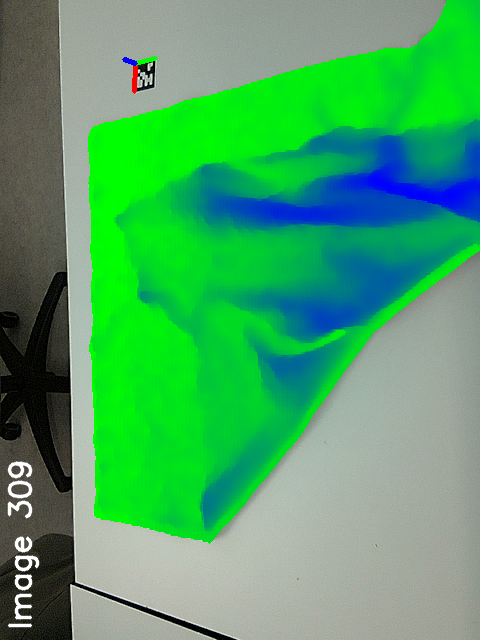V: (104, 201, 157, 237), (126, 275, 170, 315)
